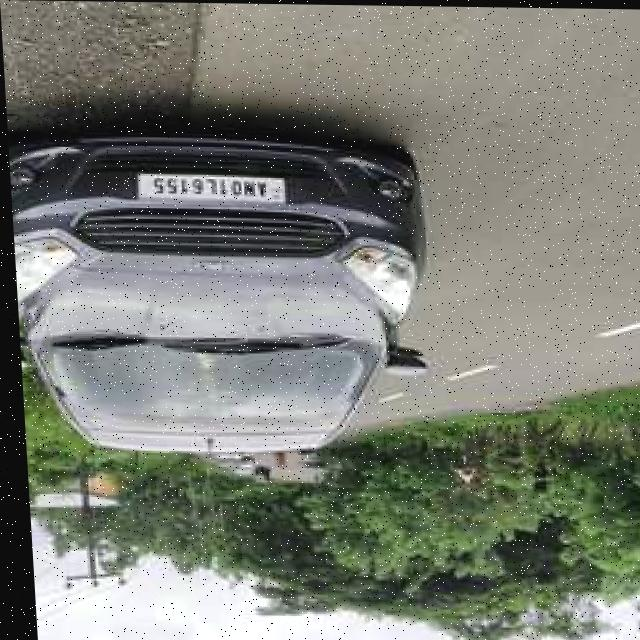plate: (127, 169, 285, 204)
